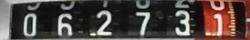digits: (210, 0, 227, 36), (95, 9, 114, 38), (174, 9, 190, 36), (56, 13, 73, 38), (135, 10, 151, 35), (23, 13, 36, 35)
